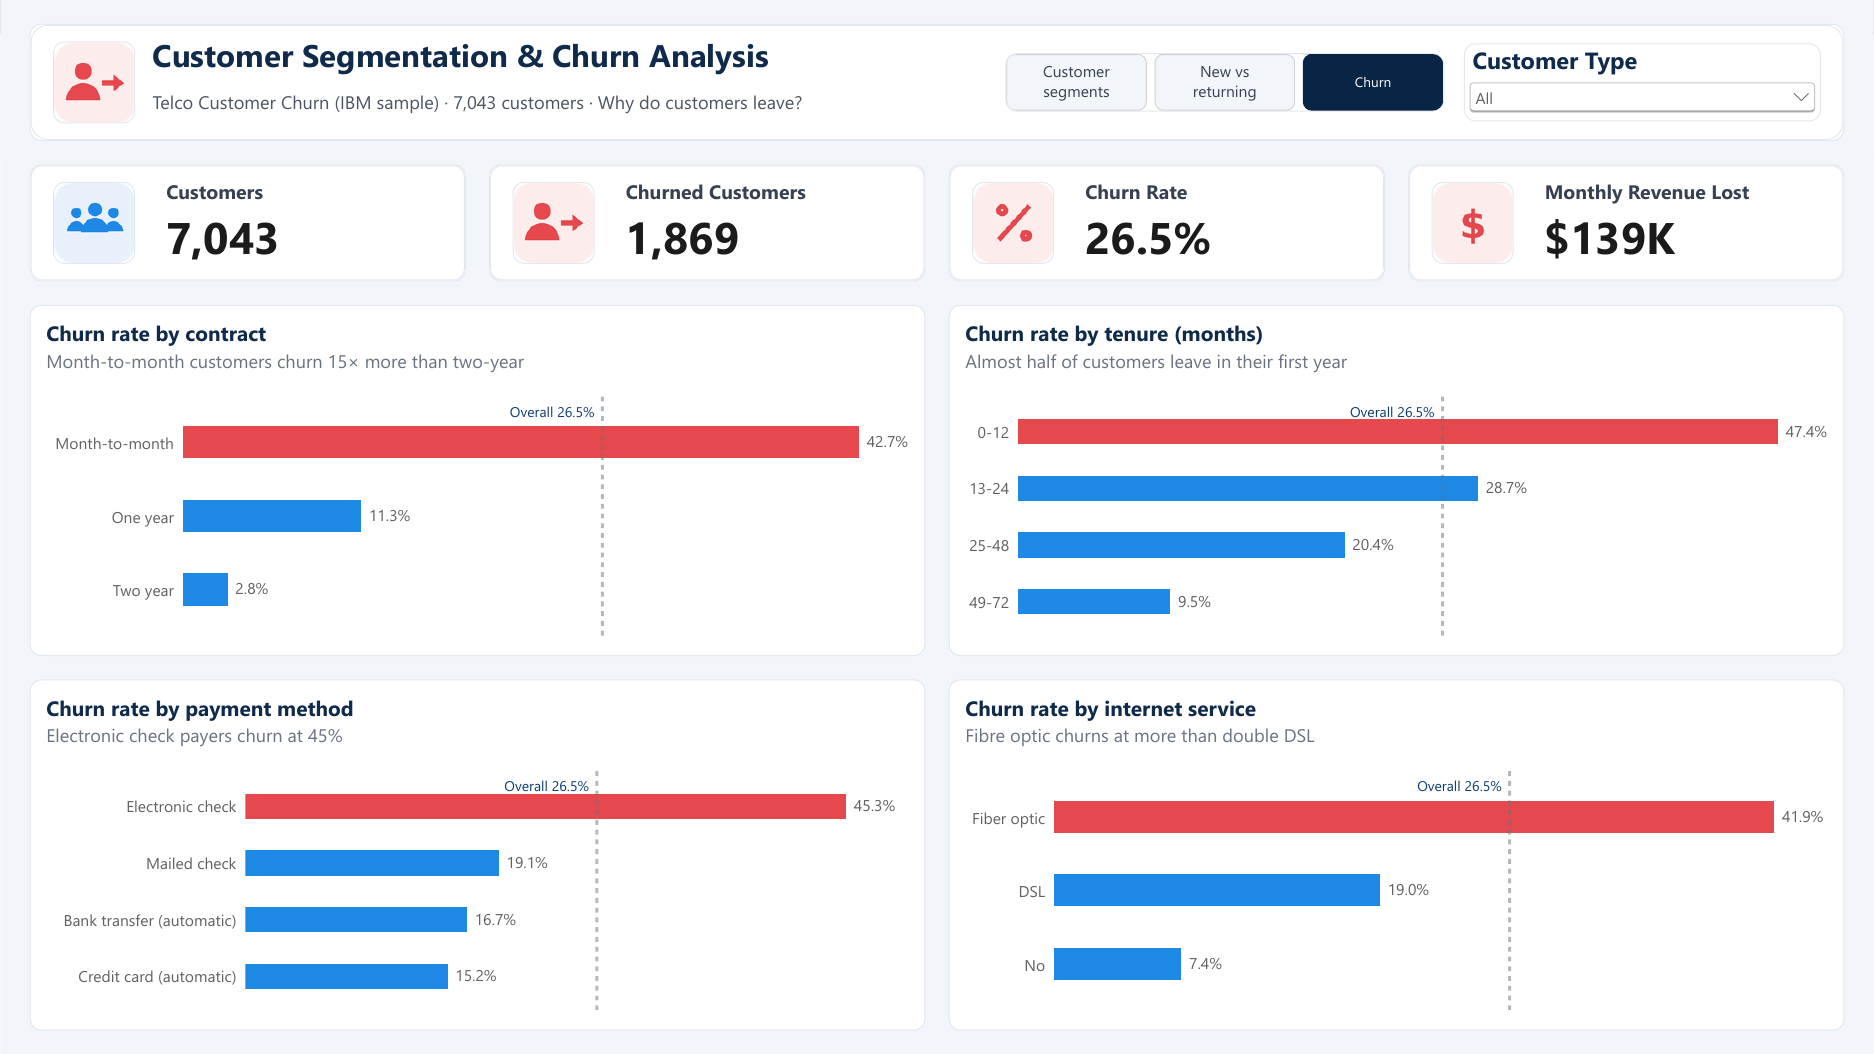

This screenshot's page, from the dashboard's own definition file:
{"tool":"powerbi","page":{"name":"Churn","canvas":[1920,1080],"ordinal":2},"visuals":[{"type":"clusteredBarChart","title":"Churn rate by internet service","fields":{"Category":["telco_clean.InternetService"],"Y":["telco_clean.Churn Rate"]},"box":[972,696,918,360],"z":3000},{"type":"clusteredBarChart","title":"Churn rate by payment method","fields":{"Category":["telco_clean.PaymentMethod"],"Y":["telco_clean.Churn Rate"]},"box":[30,696,918,360],"z":4000},{"type":"clusteredBarChart","title":"Churn rate by tenure (months)","fields":{"Category":["telco_clean.TenureGroup"],"Y":["telco_clean.Churn Rate"]},"box":[972,312,918,360],"z":5000},{"type":"clusteredBarChart","title":"Churn rate by contract","fields":{"Category":["telco_clean.Contract"],"Y":["telco_clean.Churn Rate"]},"box":[30,312,918,360],"z":6000},{"type":"shape","box":[30,24,1860,120],"z":7001},{"type":"image","box":[54,42,84,84],"z":7002},{"type":"textbox","box":[156,34,860,56],"z":7003},{"type":"textbox","box":[156,92,860,40],"z":7004},{"type":"pageNavigator","box":[1030,54,450,60],"z":7005},{"type":"slicer","fields":{"Values":["telco_clean.Customer Type"]},"box":[1500,44,366,80],"z":7006},{"type":"shape","box":[30,168,447,120],"z":7007},{"type":"shape","box":[501,168,447,120],"z":7008},{"type":"shape","box":[1443,168,447,120],"z":7009},{"type":"shape","box":[972,168,447,120],"z":7010},{"type":"image","box":[54,186,84,84],"z":7011},{"type":"image","box":[1467,186,84,84],"z":7012},{"type":"image","box":[996,186,84,84],"z":7013},{"type":"image","box":[525,186,84,84],"z":7014},{"type":"cardVisual","fields":{"Data":["telco_clean.Telco Customers display"]},"box":[154,180,300,96],"z":7015},{"type":"cardVisual","fields":{"Data":["telco_clean.Revenue Lost"]},"box":[1567,180,300,96],"z":7016},{"type":"cardVisual","fields":{"Data":["telco_clean.Churn Customers display"]},"box":[625,180,300,96],"z":7017},{"type":"cardVisual","fields":{"Data":["telco_clean.Churn Rate"]},"box":[1096,180,300,96],"z":7018}]}

Visuals, with their boxes in screenshot pixels (x1, y1, x2, y2), scaled from the page's 1920x1080 canvas onto the 1874x1054 screenshot:
"Churn rate by internet service" clusteredBarChart: BBox(949, 679, 1845, 1031)
"Churn rate by payment method" clusteredBarChart: BBox(29, 679, 925, 1031)
"Churn rate by tenure (months)" clusteredBarChart: BBox(949, 304, 1845, 656)
"Churn rate by contract" clusteredBarChart: BBox(29, 304, 925, 656)
shape: BBox(29, 23, 1845, 141)
image: BBox(53, 41, 135, 123)
textbox: BBox(152, 33, 992, 88)
textbox: BBox(152, 90, 992, 129)
pageNavigator: BBox(1005, 53, 1445, 111)
slicer - telco_clean.Customer Type: BBox(1464, 43, 1821, 121)
shape: BBox(29, 164, 466, 281)
shape: BBox(489, 164, 925, 281)
shape: BBox(1408, 164, 1845, 281)
shape: BBox(949, 164, 1385, 281)
image: BBox(53, 182, 135, 264)
image: BBox(1432, 182, 1514, 264)
image: BBox(972, 182, 1054, 264)
image: BBox(512, 182, 594, 264)
cardVisual - telco_clean.Telco Customers display: BBox(150, 176, 443, 269)
cardVisual - telco_clean.Revenue Lost: BBox(1529, 176, 1822, 269)
cardVisual - telco_clean.Churn Customers display: BBox(610, 176, 903, 269)
cardVisual - telco_clean.Churn Rate: BBox(1070, 176, 1363, 269)
